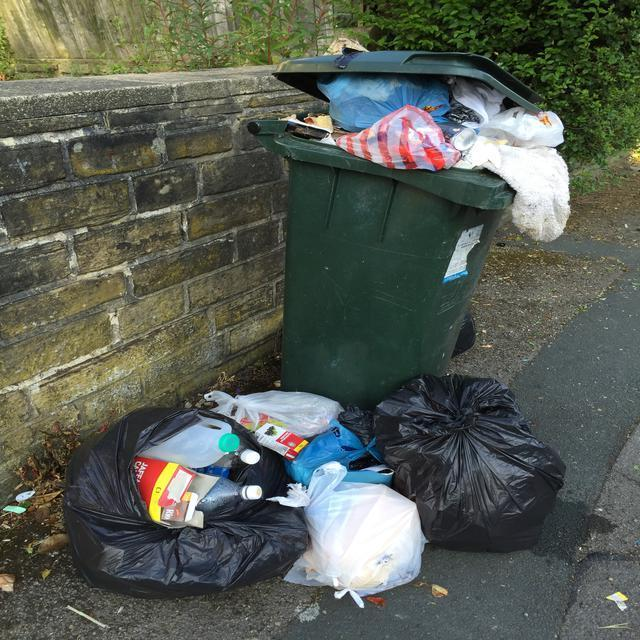garbage: (71, 392, 386, 586), (359, 367, 560, 557), (306, 80, 554, 233)
